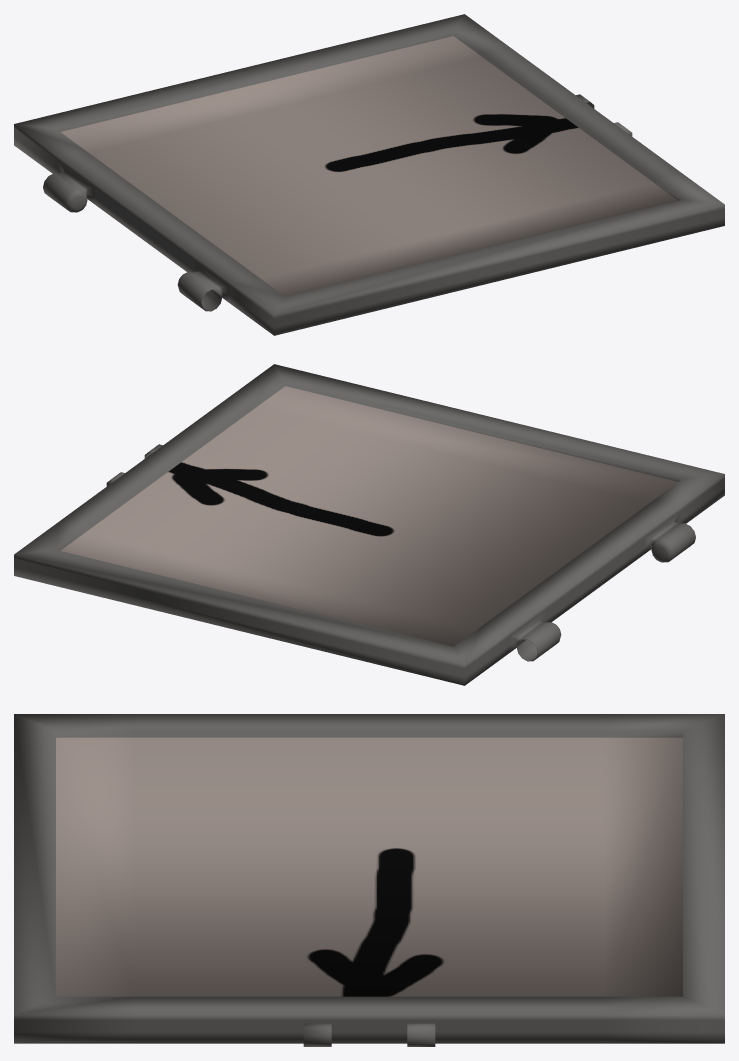
The model's file is SM_DeliveryBoxLid.fbx.
3 renders of one model, top to bottom at view 1: azimuth 30°, elevation 25°; view 2: azimuth 150°, elevation 25°; view 3: azimuth 270°, elevation 25°, orthographic. The views are drawn at different scales.
Visible parts, largest first — view 1: DeliveryBoxLid; view 2: DeliveryBoxLid; view 3: DeliveryBoxLid.
Boxes of the visible parts, bbox=[...] form: DeliveryBoxLid: bbox=[14, 14, 724, 335]; DeliveryBoxLid: bbox=[14, 364, 724, 685]; DeliveryBoxLid: bbox=[14, 714, 724, 1046].
Bounding box in the file's own units: 91.77 × 5.74 × 85.
